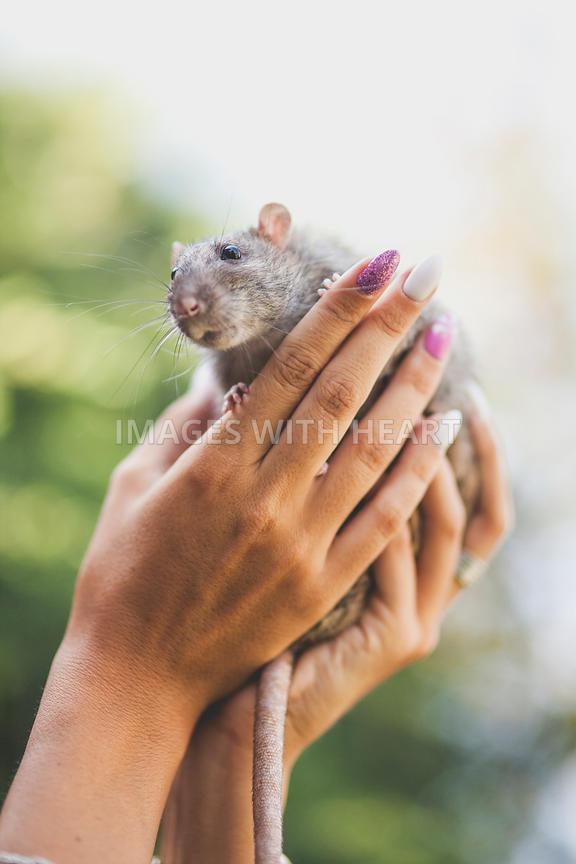rat: (171, 201, 473, 864)
